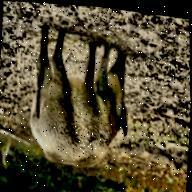boar: (13, 10, 148, 191)
